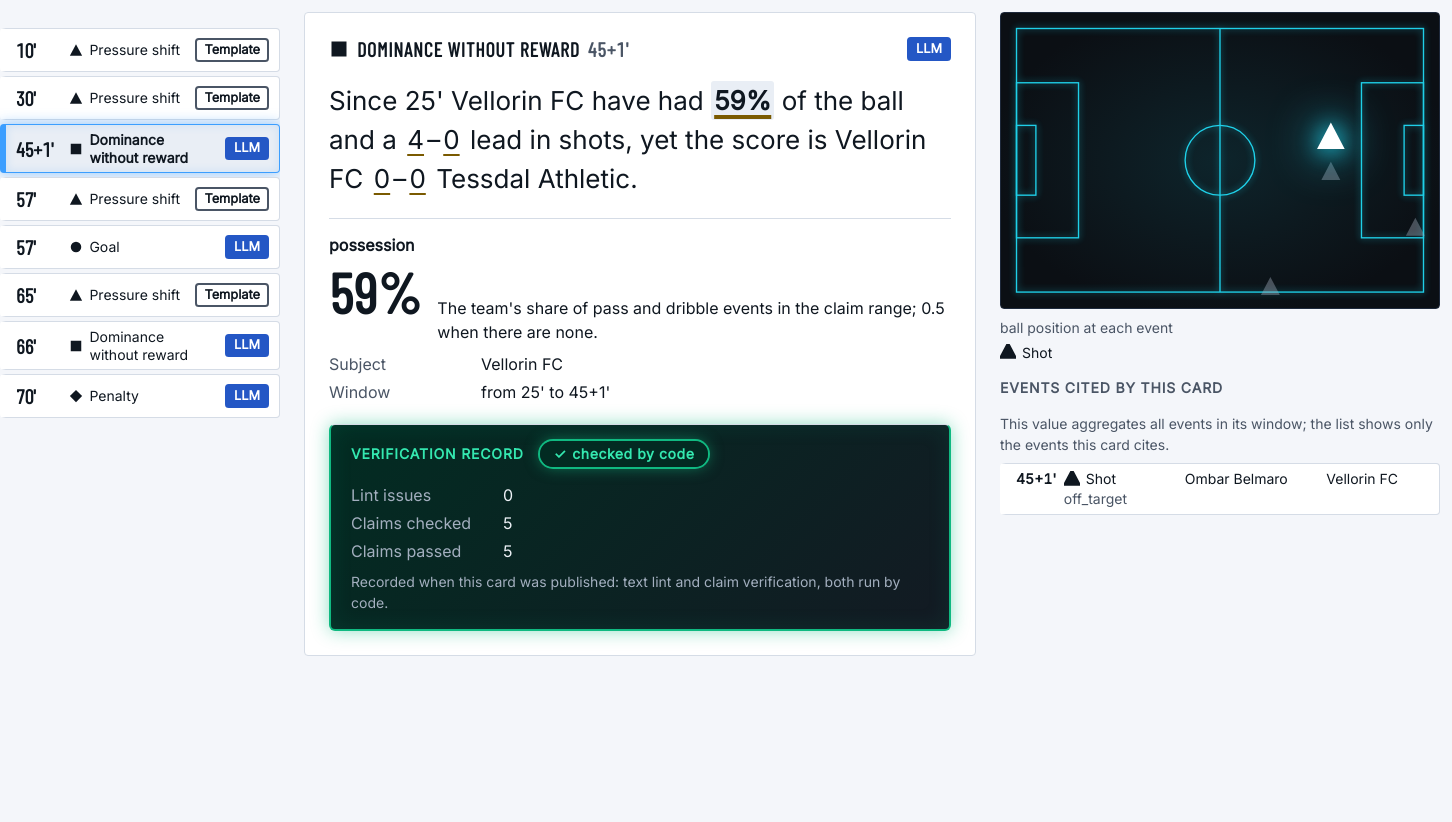
Test case: events cited by this card › score is not an aggregate: no sentence
The image size is (1452, 822).
Click the 2nd button "0" at coordinates (382, 178), box x1=371 y1=159 x2=393 y2=198
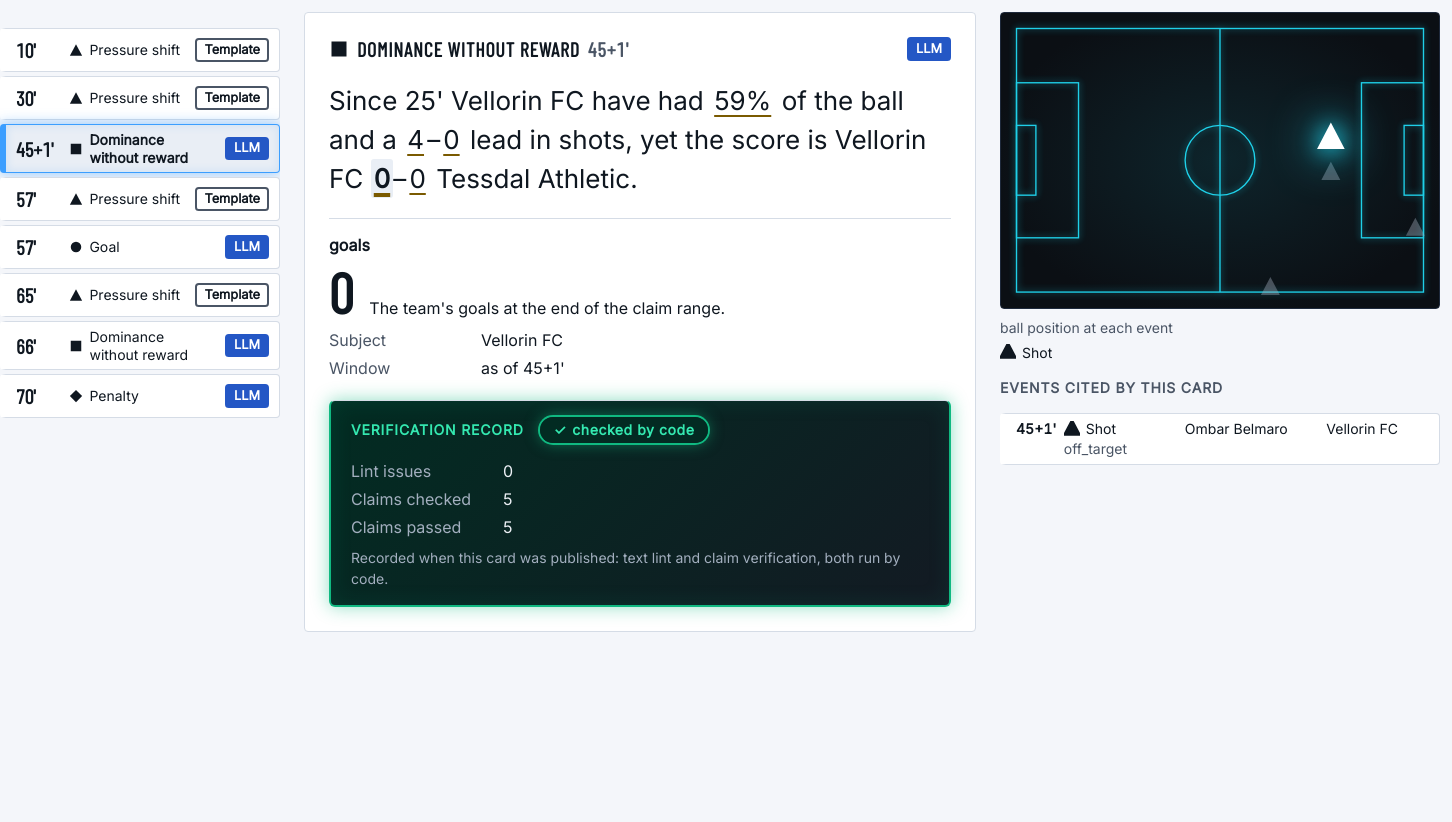
Now the text with test id "aggregate-note" is gone
